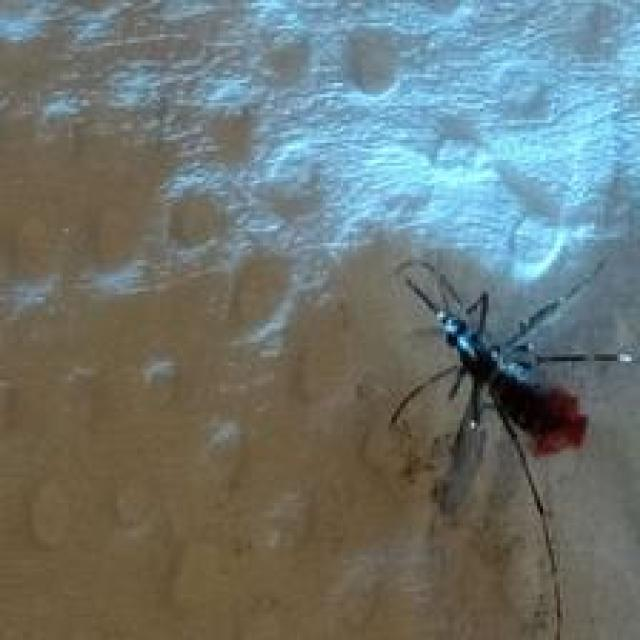Aedes albopictus: (385, 251, 640, 639)
